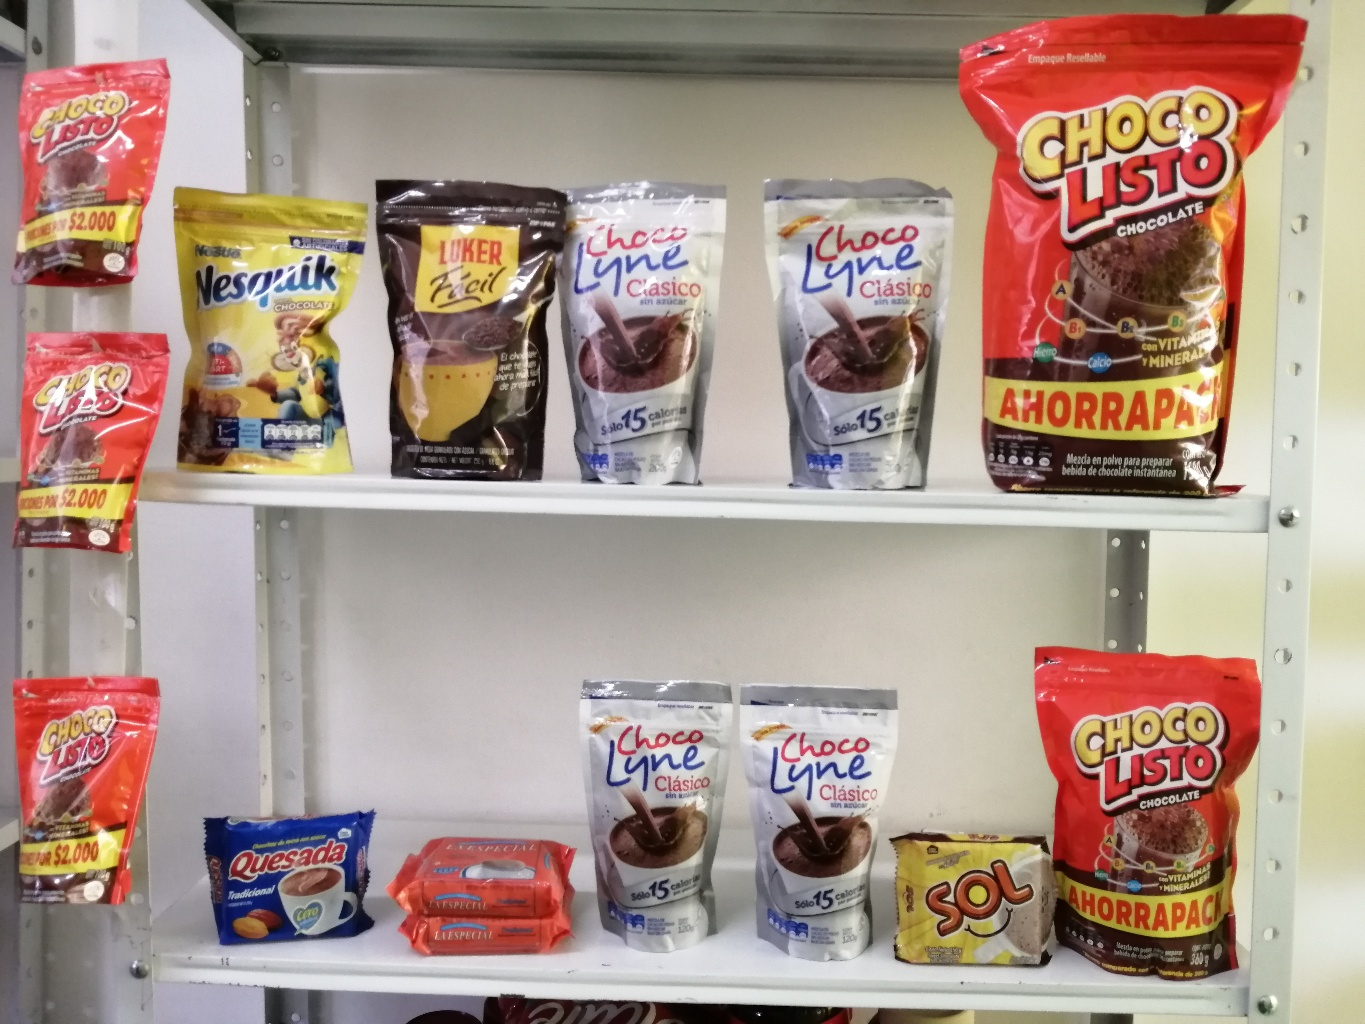COL0170103DYP1,500: (954, 5, 1298, 497)
COL0170103DYP36000: (1038, 638, 1267, 981)
COL0170303DYP20000: (167, 181, 365, 470)
